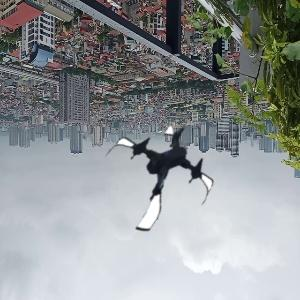drone: (101, 119, 218, 236)
